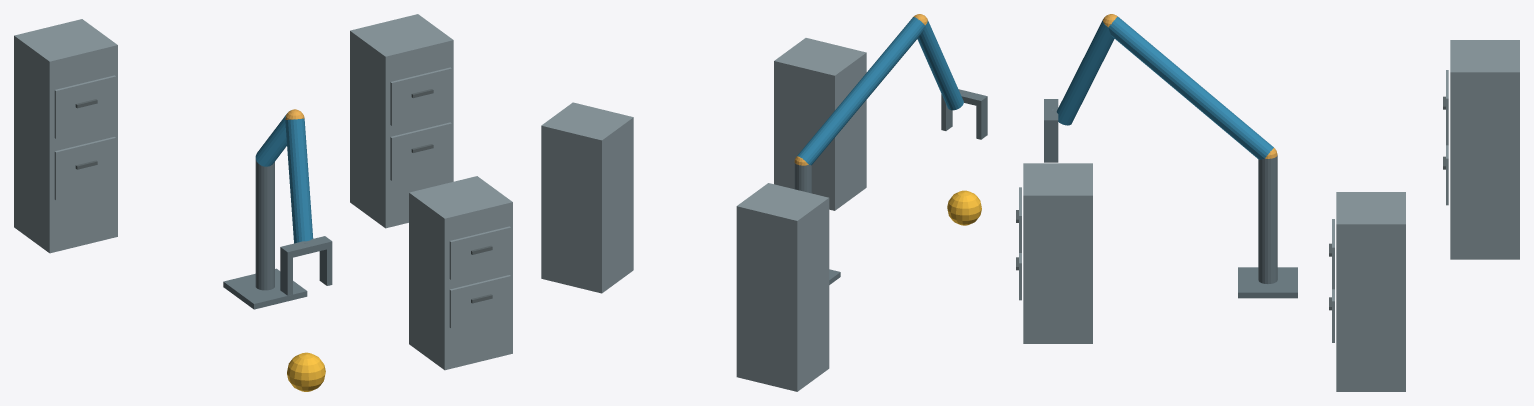
3 views of the same model, side by side, from view 1: azimuth 30°, elevation 25°; view 2: azimuth 150°, elevation 25°; view 3: azimuth 270°, elevation 25° (orthographic). The views are drawn at different scales.
Parts seen in each view (by area): view 1: cabinet_3 body, cabinet_2 body, cabinet_1 body, cabinet_3 drawer front.001, cabinet_3 drawer front, cabinet_2 drawer front.001, cabinet_2 drawer front, fixed post, moving link 2, cabinet_1 drawer front.001, cabinet_1 drawer front, pedestal (+5 smaller); view 2: cabinet_3 body, cabinet_2 body, cabinet_1 body, moving link 1, moving link 2, ball ball_1, fixed post, gripper finger -1; view 3: cabinet_3 body, cabinet_2 body, cabinet_1 body, moving link 1, fixed post, moving link 2, pedestal, gripper finger 1.
Boxes of the visible parts, left/top/right/bottom form: cabinet_3 body: left=14, top=19, right=117, bottom=253; cabinet_2 body: left=350, top=14, right=453, bottom=228; cabinet_1 body: left=409, top=176, right=512, bottom=370; cabinet_3 drawer front.001: left=54, top=75, right=115, bottom=138; cabinet_3 drawer front: left=54, top=137, right=115, bottom=200; cabinet_2 drawer front.001: left=390, top=67, right=451, bottom=125; cabinet_2 drawer front: left=390, top=122, right=451, bottom=180; fixed post: left=255, top=159, right=274, bottom=290; moving link 2: left=285, top=118, right=313, bottom=243; cabinet_1 drawer front.001: left=449, top=226, right=510, bottom=279; cabinet_1 drawer front: left=449, top=275, right=510, bottom=328; pedestal: left=223, top=268, right=307, bottom=309; cabinet_3 body: left=736, top=183, right=829, bottom=391; cabinet_2 body: left=541, top=102, right=633, bottom=293; cabinet_1 body: left=774, top=38, right=866, bottom=210; moving link 1: left=797, top=17, right=925, bottom=165; moving link 2: left=917, top=20, right=963, bottom=110; ball ball_1: left=947, top=190, right=981, bottom=225; fixed post: left=794, top=163, right=811, bottom=193; gripper finger -1: left=976, top=102, right=987, bottom=139; cabinet_3 body: left=1450, top=40, right=1519, bottom=259; cabinet_2 body: left=1336, top=192, right=1405, bottom=391; cabinet_1 body: left=1023, top=163, right=1092, bottom=343; moving link 1: left=1108, top=16, right=1273, bottom=159; fixed post: left=1258, top=155, right=1277, bottom=283; moving link 2: left=1056, top=20, right=1114, bottom=125; pedestal: left=1238, top=267, right=1297, bottom=298; gripper finger 1: left=1044, top=126, right=1058, bottom=162.
Size of the model in its own units: 1.62 by 1.13 by 2.1.
